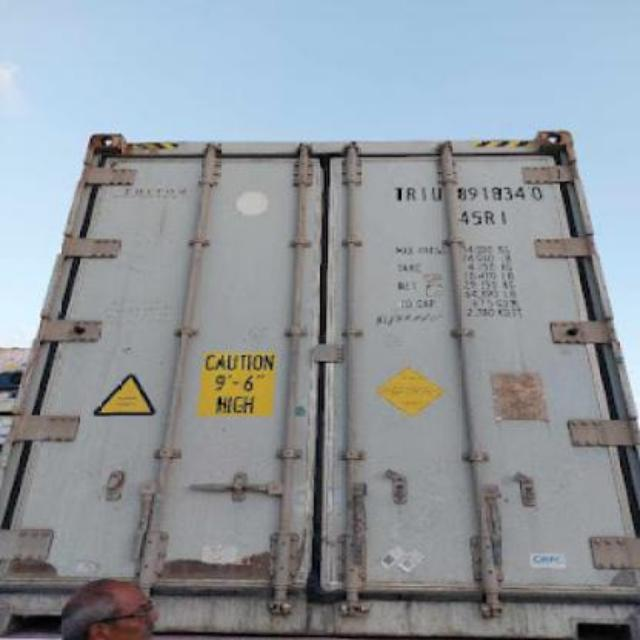0: (528, 183, 548, 201)
1: (480, 178, 490, 202)
3: (502, 175, 514, 202)
4: (514, 180, 528, 202)
8: (490, 178, 502, 202), (456, 180, 468, 202)
9: (466, 180, 479, 202)
I: (418, 180, 430, 203)
R: (402, 183, 418, 201)
T: (391, 182, 404, 202)
U: (428, 180, 444, 204)
